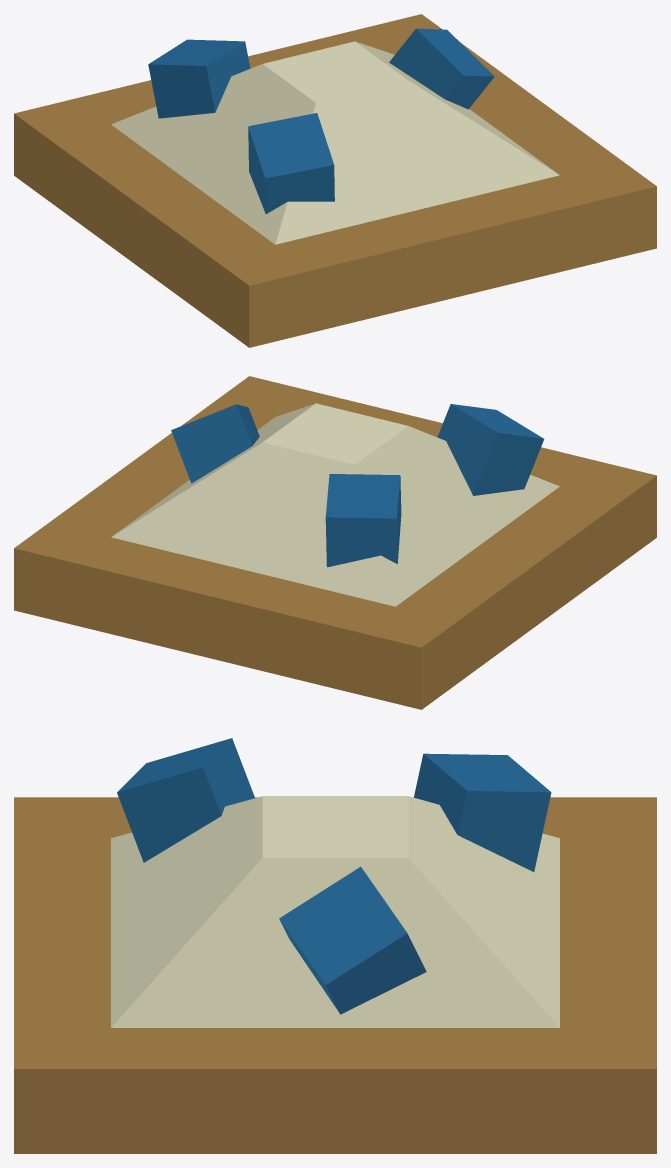
File: Blueberry.glb
3 views of the same model, one above another, from view 1: azimuth 30°, elevation 25°; view 2: azimuth 150°, elevation 25°; view 3: azimuth 270°, elevation 25° (orthographic). The views are drawn at different scales.
Parts seen in each view (by area): view 1: SI_Food_Bakery_BlueberryCream; view 2: SI_Food_Bakery_BlueberryCream; view 3: SI_Food_Bakery_BlueberryCream.
Boxes of the visible parts, x1,y1,x2,y2 form: SI_Food_Bakery_BlueberryCream: (14,14,656,347); SI_Food_Bakery_BlueberryCream: (14,376,656,709); SI_Food_Bakery_BlueberryCream: (14,738,656,1153).
Size of the model in its own units: 0.00446 by 0.00162 by 0.00446.
Materials: 1 (1 with a texture image).
